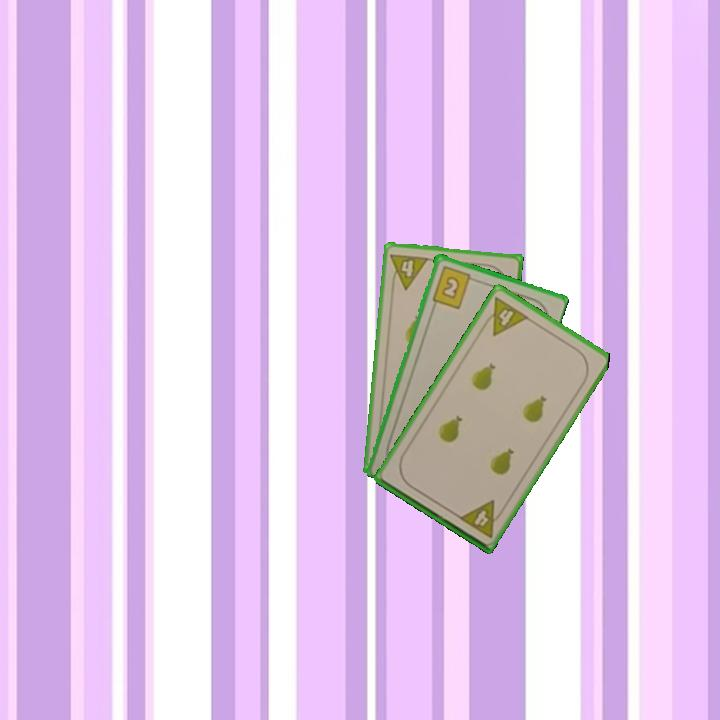2b: (428, 262, 479, 311)
4p: (478, 293, 532, 339), (455, 496, 507, 541), (387, 250, 431, 292)
